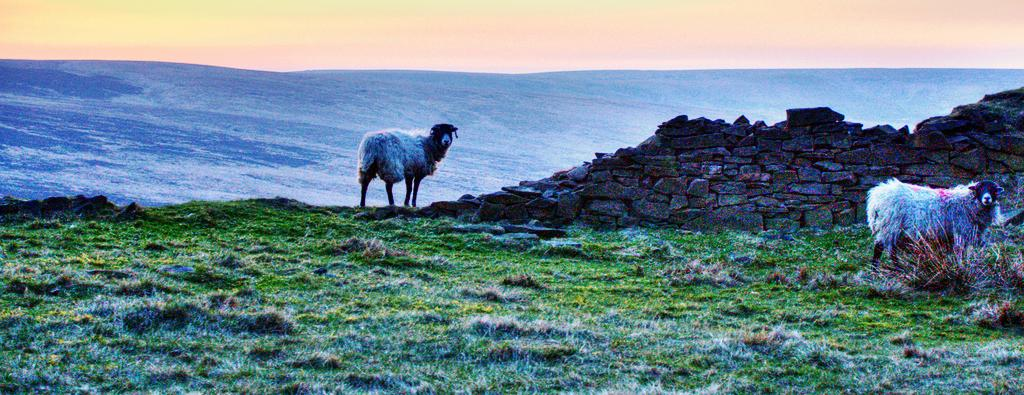Sheep: (868, 166, 1012, 280), (358, 118, 460, 205)
